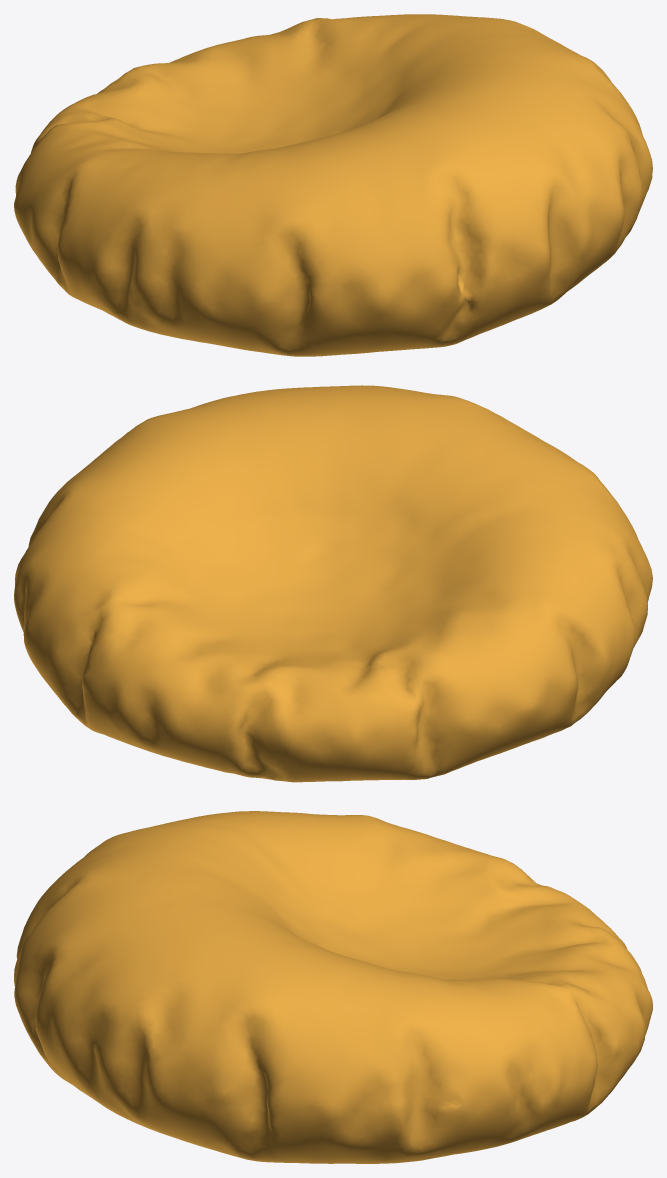
The model's file is Beanbag-3.fbx.
The picture shows the model from 3 angles, top to bottom: view 1: azimuth 30°, elevation 25°; view 2: azimuth 150°, elevation 25°; view 3: azimuth 270°, elevation 25°; orthographic projection.
Parts seen in each view (by area): view 1: BeanBag3; view 2: BeanBag3; view 3: BeanBag3.
Boxes of the visible parts, x1,y1,x2,y2 form: BeanBag3: (14, 14, 652, 356); BeanBag3: (14, 385, 652, 782); BeanBag3: (14, 811, 652, 1163).
Size of the model in its own units: 248 by 81.17 by 247.
